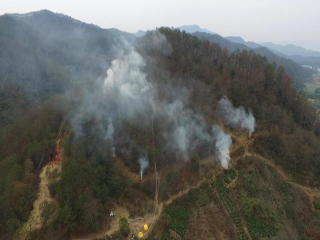smoke: (80, 32, 258, 177)
